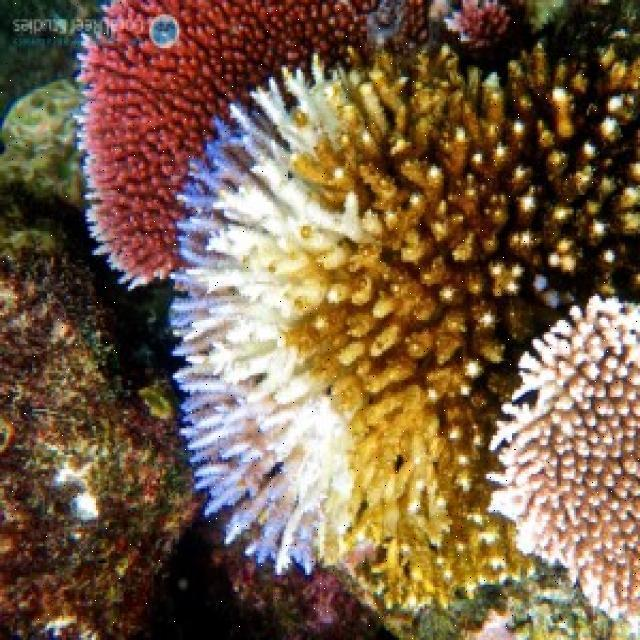Bleached: (175, 76, 358, 575), (488, 293, 640, 626)
Healthy: (360, 56, 487, 611), (488, 30, 640, 289), (84, 2, 170, 283), (176, 2, 360, 76)
